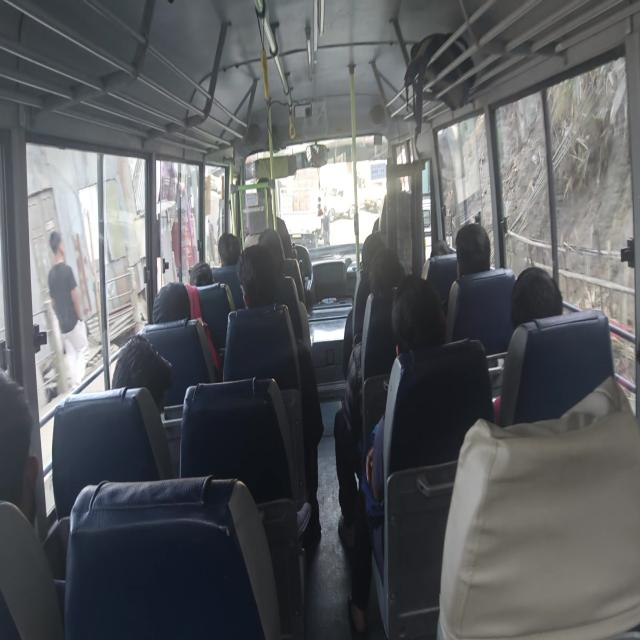person: (347, 274, 447, 636), (233, 243, 323, 542), (334, 248, 405, 548), (0, 368, 67, 582), (492, 265, 563, 423), (47, 230, 90, 390), (342, 232, 386, 378), (0, 368, 39, 524), (111, 333, 173, 419), (446, 222, 491, 339), (510, 265, 563, 330), (455, 222, 491, 278), (217, 232, 241, 266), (188, 261, 214, 287), (321, 206, 330, 246)
